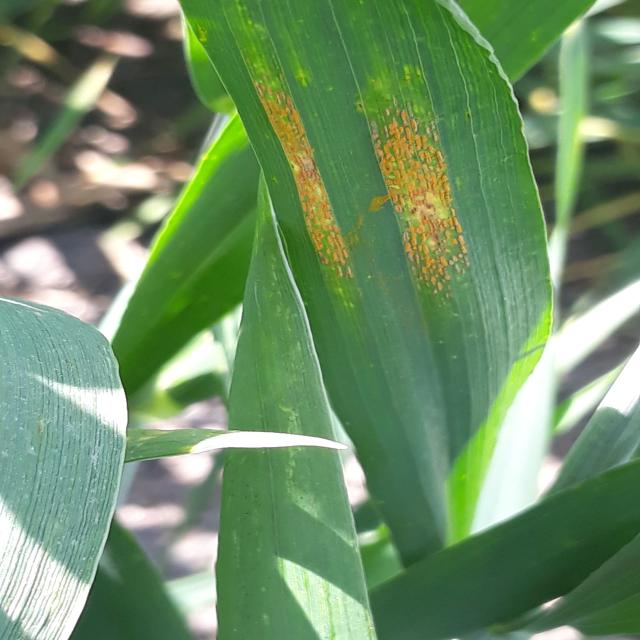yellow_rust: (164, 8, 626, 397)
